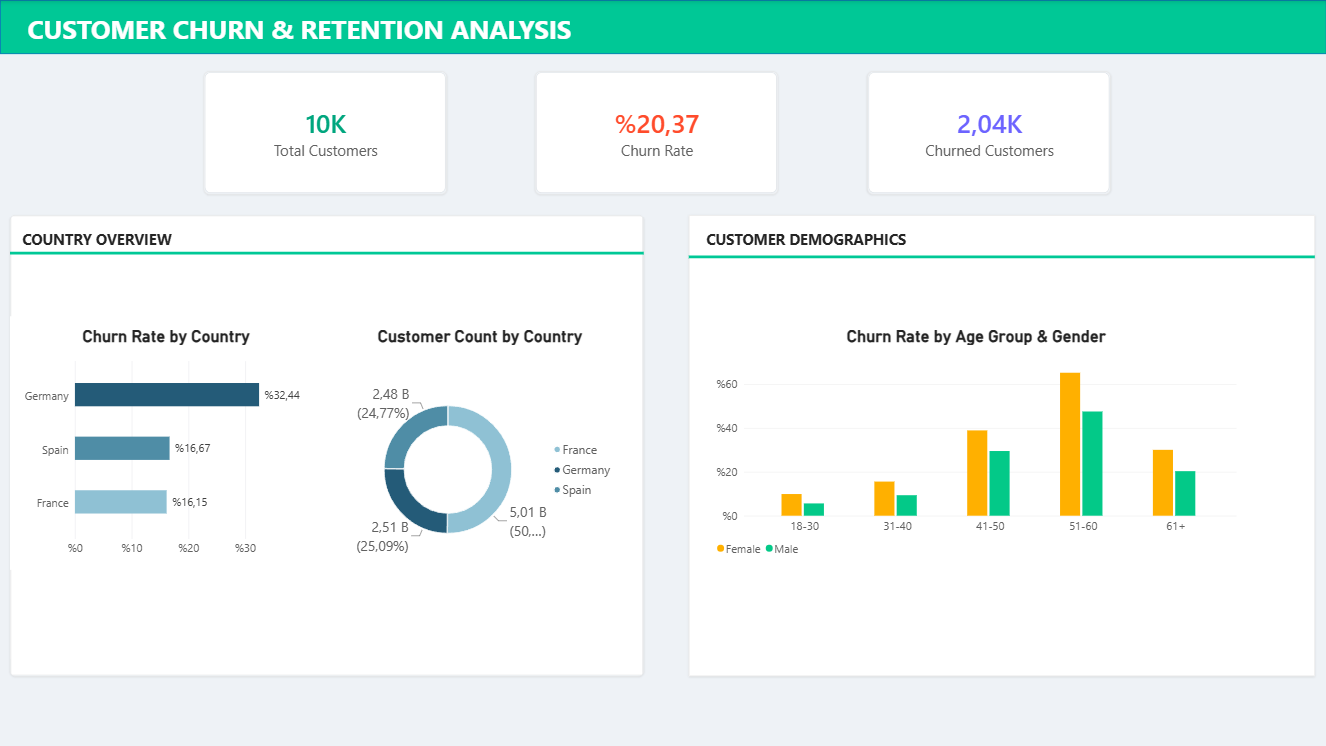

The dashboard page shown, as its layout file describes it:
{"tool":"powerbi","page":{"name":"Executive Overview","canvas":[1920,1080],"ordinal":0},"visuals":[{"type":"shape","box":[997.1,311.3,906.6,667.8],"z":0},{"type":"shape","box":[14.5,311.3,917.5,667.8],"z":1000},{"type":"cardVisual","fields":{"Data":["customer_churn_powerbi.Total Customers Display"]},"box":[294.5,103.8,352,178],"z":2000},{"type":"cardVisual","fields":{"Data":["customer_churn_powerbi.Churn Rate"]},"box":[775,103.8,352,178.1],"z":3000},{"type":"cardVisual","fields":{"Data":["customer_churn_powerbi.Churned Customers Display"]},"box":[1255.4,103.8,352.1,178],"z":4000},{"type":"barChart","title":"Churn Rate by Country","fields":{"Category":["customer_churn_powerbi.country"],"Y":["customer_churn_powerbi.Churn Rate"]},"box":[14.5,457.8,452.4,367.4],"z":5000},{"type":"shape","box":[0,0,1920.4,78.3],"z":6000},{"type":"textbox","box":[0,16.5,1920.4,61.8],"z":7000},{"type":"textbox","box":[14.5,331.2,836.1,59.7],"z":8000},{"type":"donutChart","title":"Customer Count by Country","fields":{"Category":["customer_churn_powerbi.country"],"Y":["Count(customer_churn_powerbi.customer_id)"]},"box":[481.4,457.8,427.1,401.7],"z":9000},{"type":"clusteredColumnChart","title":"Churn Rate by Age Group & Gender","fields":{"Category":["customer_churn_powerbi.age_group"],"Series":["customer_churn_powerbi.gender"],"Y":["customer_churn_powerbi.Churn Rate"]},"box":[1020.6,457.8,785.4,367.4],"z":10000},{"type":"textbox","box":[997.1,331.2,841.5,68.8],"z":11000},{"type":"shape","box":[14.5,305.8,917.5,121.2],"z":12000},{"type":"shape","box":[997.1,311.3,906.6,121.2],"z":13000}]}

Visuals, with their boxes in screenshot pixels (x1, y1, x2, y2), scaled from the page's 1920x1080 canvas onto the 1326x746 screenshot:
shape: region(689, 215, 1315, 676)
shape: region(10, 215, 644, 676)
cardVisual - customer_churn_powerbi.Total Customers Display: region(203, 72, 446, 195)
cardVisual - customer_churn_powerbi.Churn Rate: region(535, 72, 778, 195)
cardVisual - customer_churn_powerbi.Churned Customers Display: region(867, 72, 1110, 195)
"Churn Rate by Country" barChart: region(10, 316, 322, 570)
shape: region(0, 0, 1325, 54)
textbox: region(0, 11, 1325, 54)
textbox: region(10, 229, 587, 270)
"Customer Count by Country" donutChart: region(332, 316, 627, 594)
"Churn Rate by Age Group & Gender" clusteredColumnChart: region(705, 316, 1247, 570)
textbox: region(689, 229, 1270, 276)
shape: region(10, 211, 644, 295)
shape: region(689, 215, 1315, 299)
